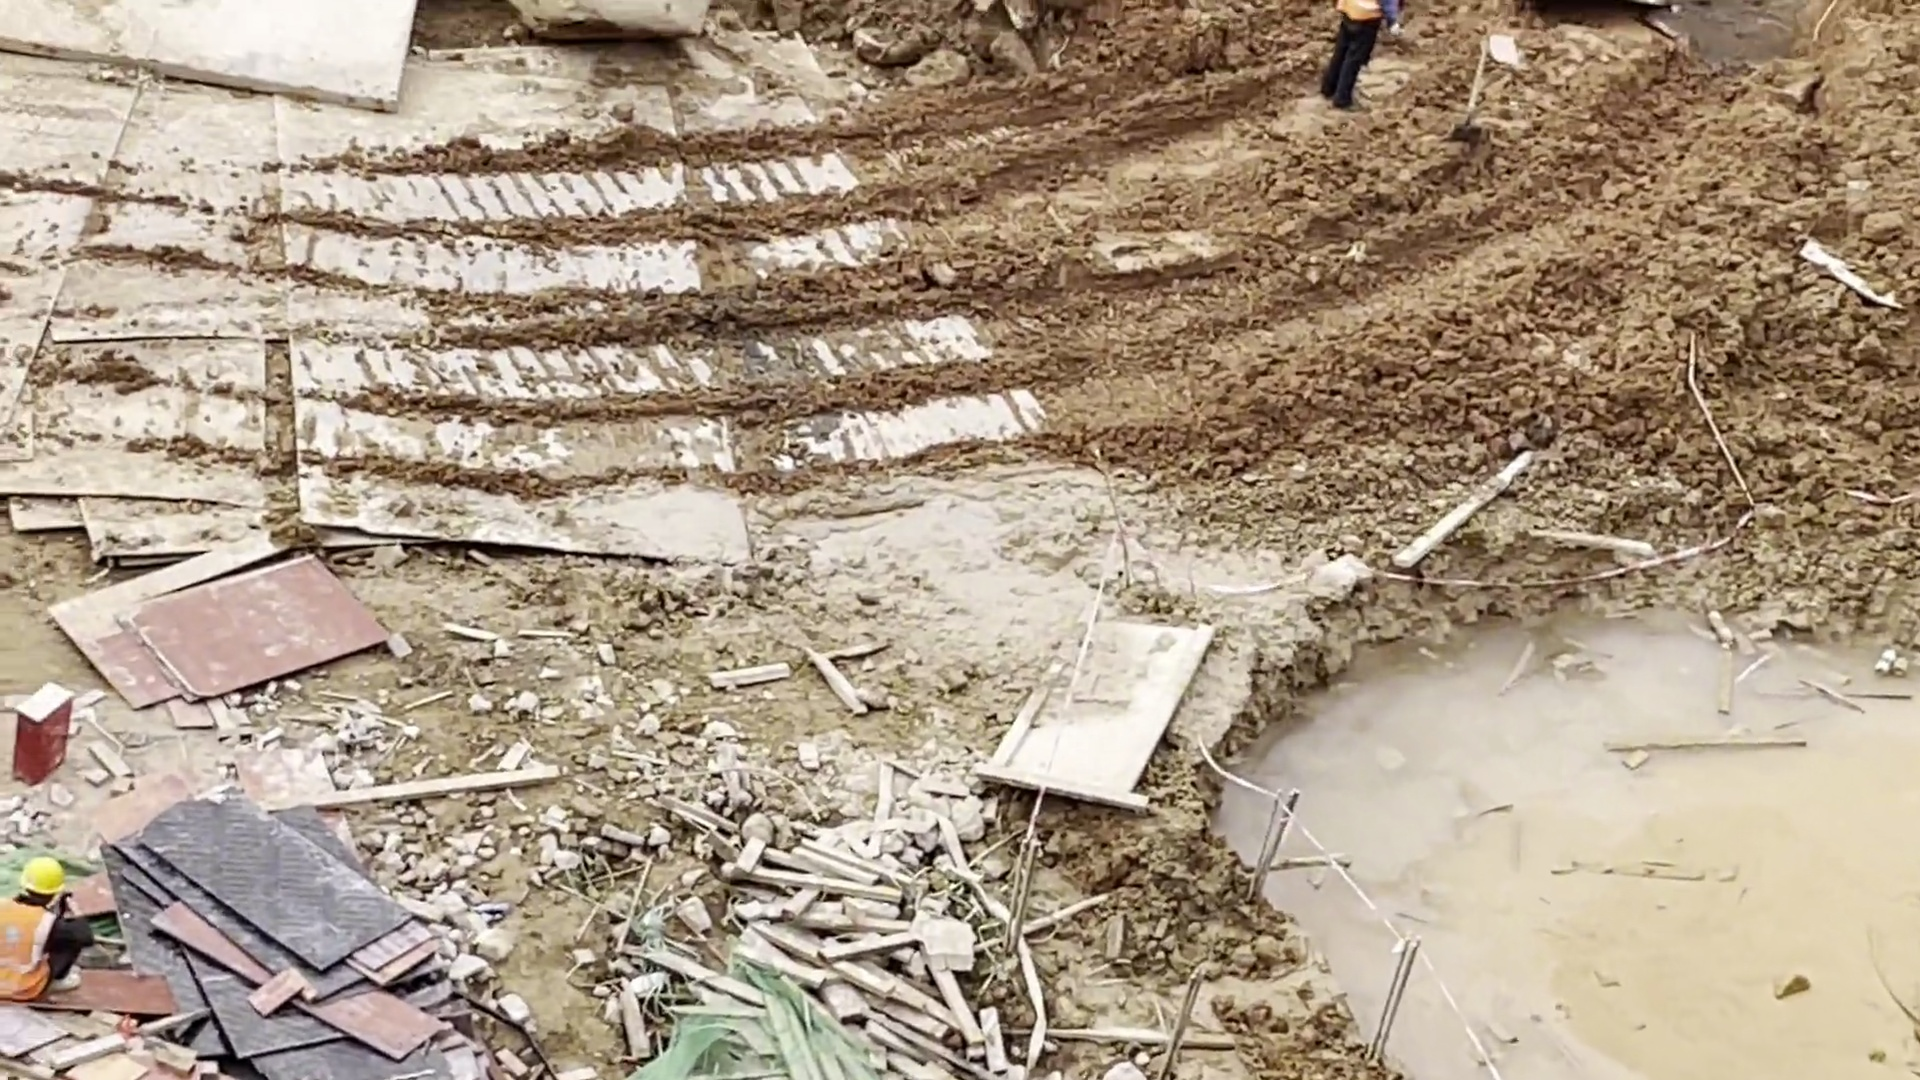helmet: (20, 849, 67, 898)
person: (1, 842, 89, 1001), (1325, 2, 1401, 105)
vest: (1, 897, 50, 1001)
